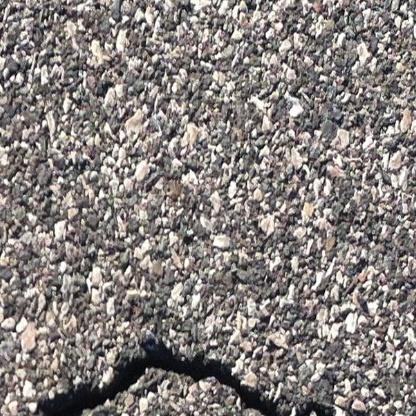Cracks: (0, 337, 373, 416)
